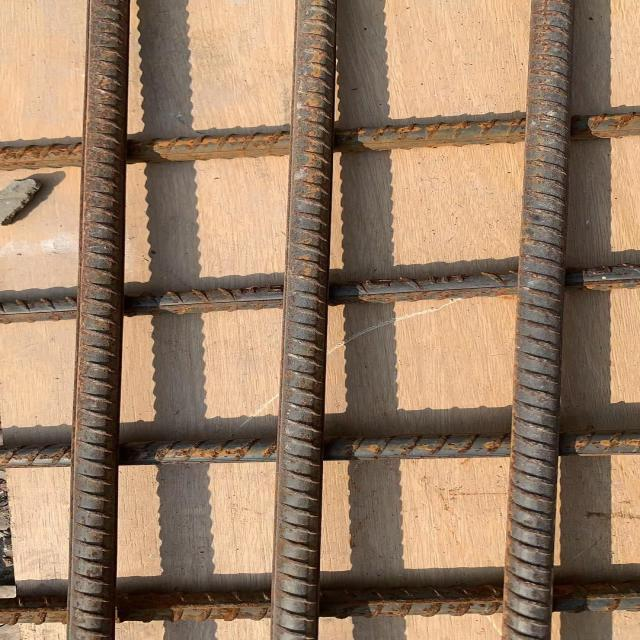ribbed bar: (499, 0, 579, 639), (270, 0, 349, 639), (65, 0, 136, 639), (1, 263, 640, 325), (1, 112, 640, 172), (1, 583, 640, 626), (1, 431, 640, 471)
